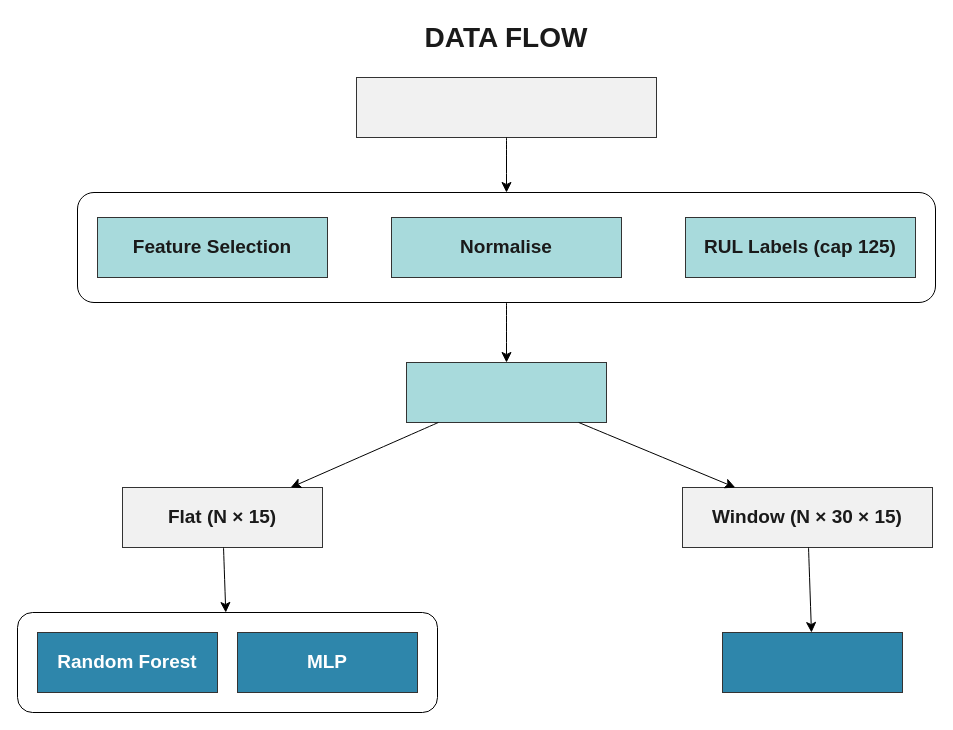
This 953x730 diagram has some shape labels left out. Each missing label, with the box of its shape:
100 Engines · 27 Sensors: (356, 76, 656, 138)
LSTM: (722, 632, 902, 692)
Train / Test Split: (406, 362, 606, 422)
